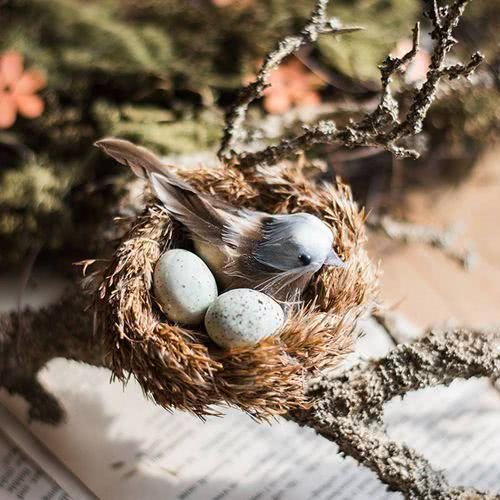bird-nest: (96, 161, 386, 421)
